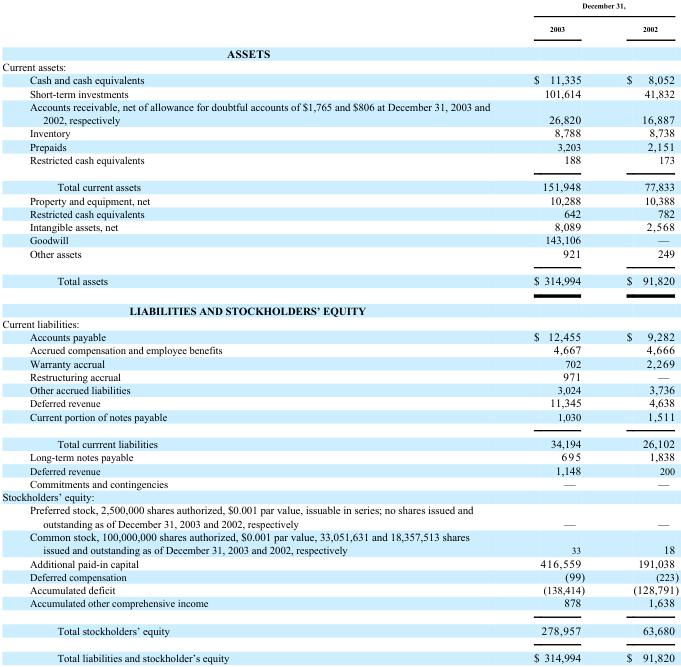table: (1, 0, 677, 663)
table column: (1, 0, 511, 663), (511, 0, 604, 663), (604, 0, 677, 663)
table column header: (1, 0, 677, 39)
table projected row header: (1, 295, 677, 316), (1, 39, 677, 59), (1, 489, 677, 503), (1, 59, 677, 72), (1, 316, 677, 329)
table row: (1, 266, 677, 295), (1, 529, 677, 556), (1, 616, 677, 643), (1, 99, 677, 125), (1, 503, 677, 529), (1, 16, 677, 39), (1, 172, 677, 193), (1, 295, 677, 316), (1, 595, 677, 616), (1, 39, 677, 59), (1, 152, 677, 172), (1, 246, 677, 266), (1, 409, 677, 429), (1, 429, 677, 449), (1, 643, 677, 663), (1, 0, 677, 16), (1, 72, 677, 86), (1, 125, 677, 139), (1, 232, 677, 246), (1, 342, 677, 356), (1, 395, 677, 409), (1, 449, 677, 463), (1, 489, 677, 503), (1, 59, 677, 72), (1, 86, 677, 99), (1, 139, 677, 152), (1, 193, 677, 206), (1, 206, 677, 219), (1, 219, 677, 232), (1, 316, 677, 329), (1, 329, 677, 342), (1, 356, 677, 369), (1, 369, 677, 382), (1, 382, 677, 395), (1, 463, 677, 476), (1, 476, 677, 489), (1, 556, 677, 569), (1, 569, 677, 582), (1, 582, 677, 595)
table spanning cell: (511, 0, 677, 16)
